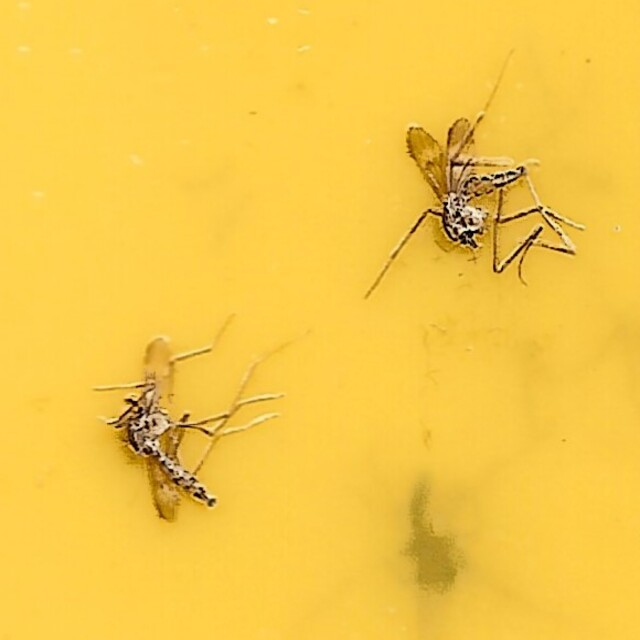Nematocera: (110, 340, 223, 525), (407, 115, 530, 250)
